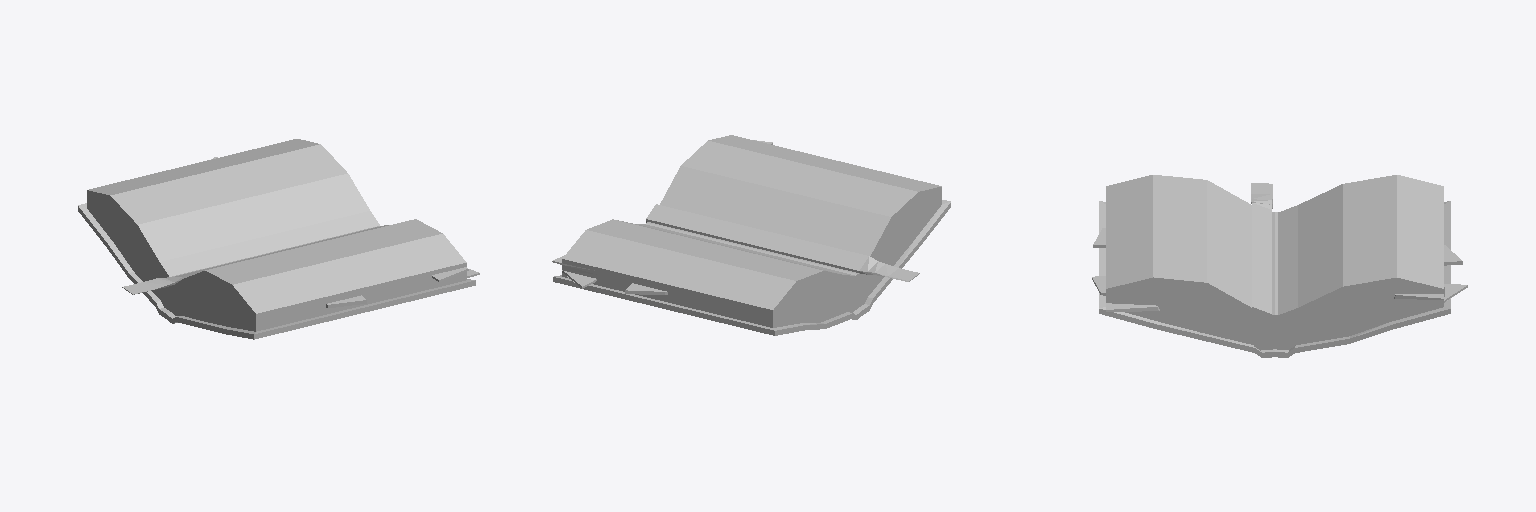
File: bookBaseMesh.obj
3 views of the same model, side by side, from view 1: azimuth 30°, elevation 25°; view 2: azimuth 150°, elevation 25°; view 3: azimuth 270°, elevation 25° (orthographic).
Parts seen in each view (by area): view 1: pCube1; view 2: pCube1; view 3: pCube1.
Boxes of the visible parts, x1,y1,x2,y2 form: pCube1: [78, 139, 479, 339]; pCube1: [552, 135, 950, 335]; pCube1: [1092, 175, 1467, 357].
Size of the model in its own units: 124 by 33.53 by 147.